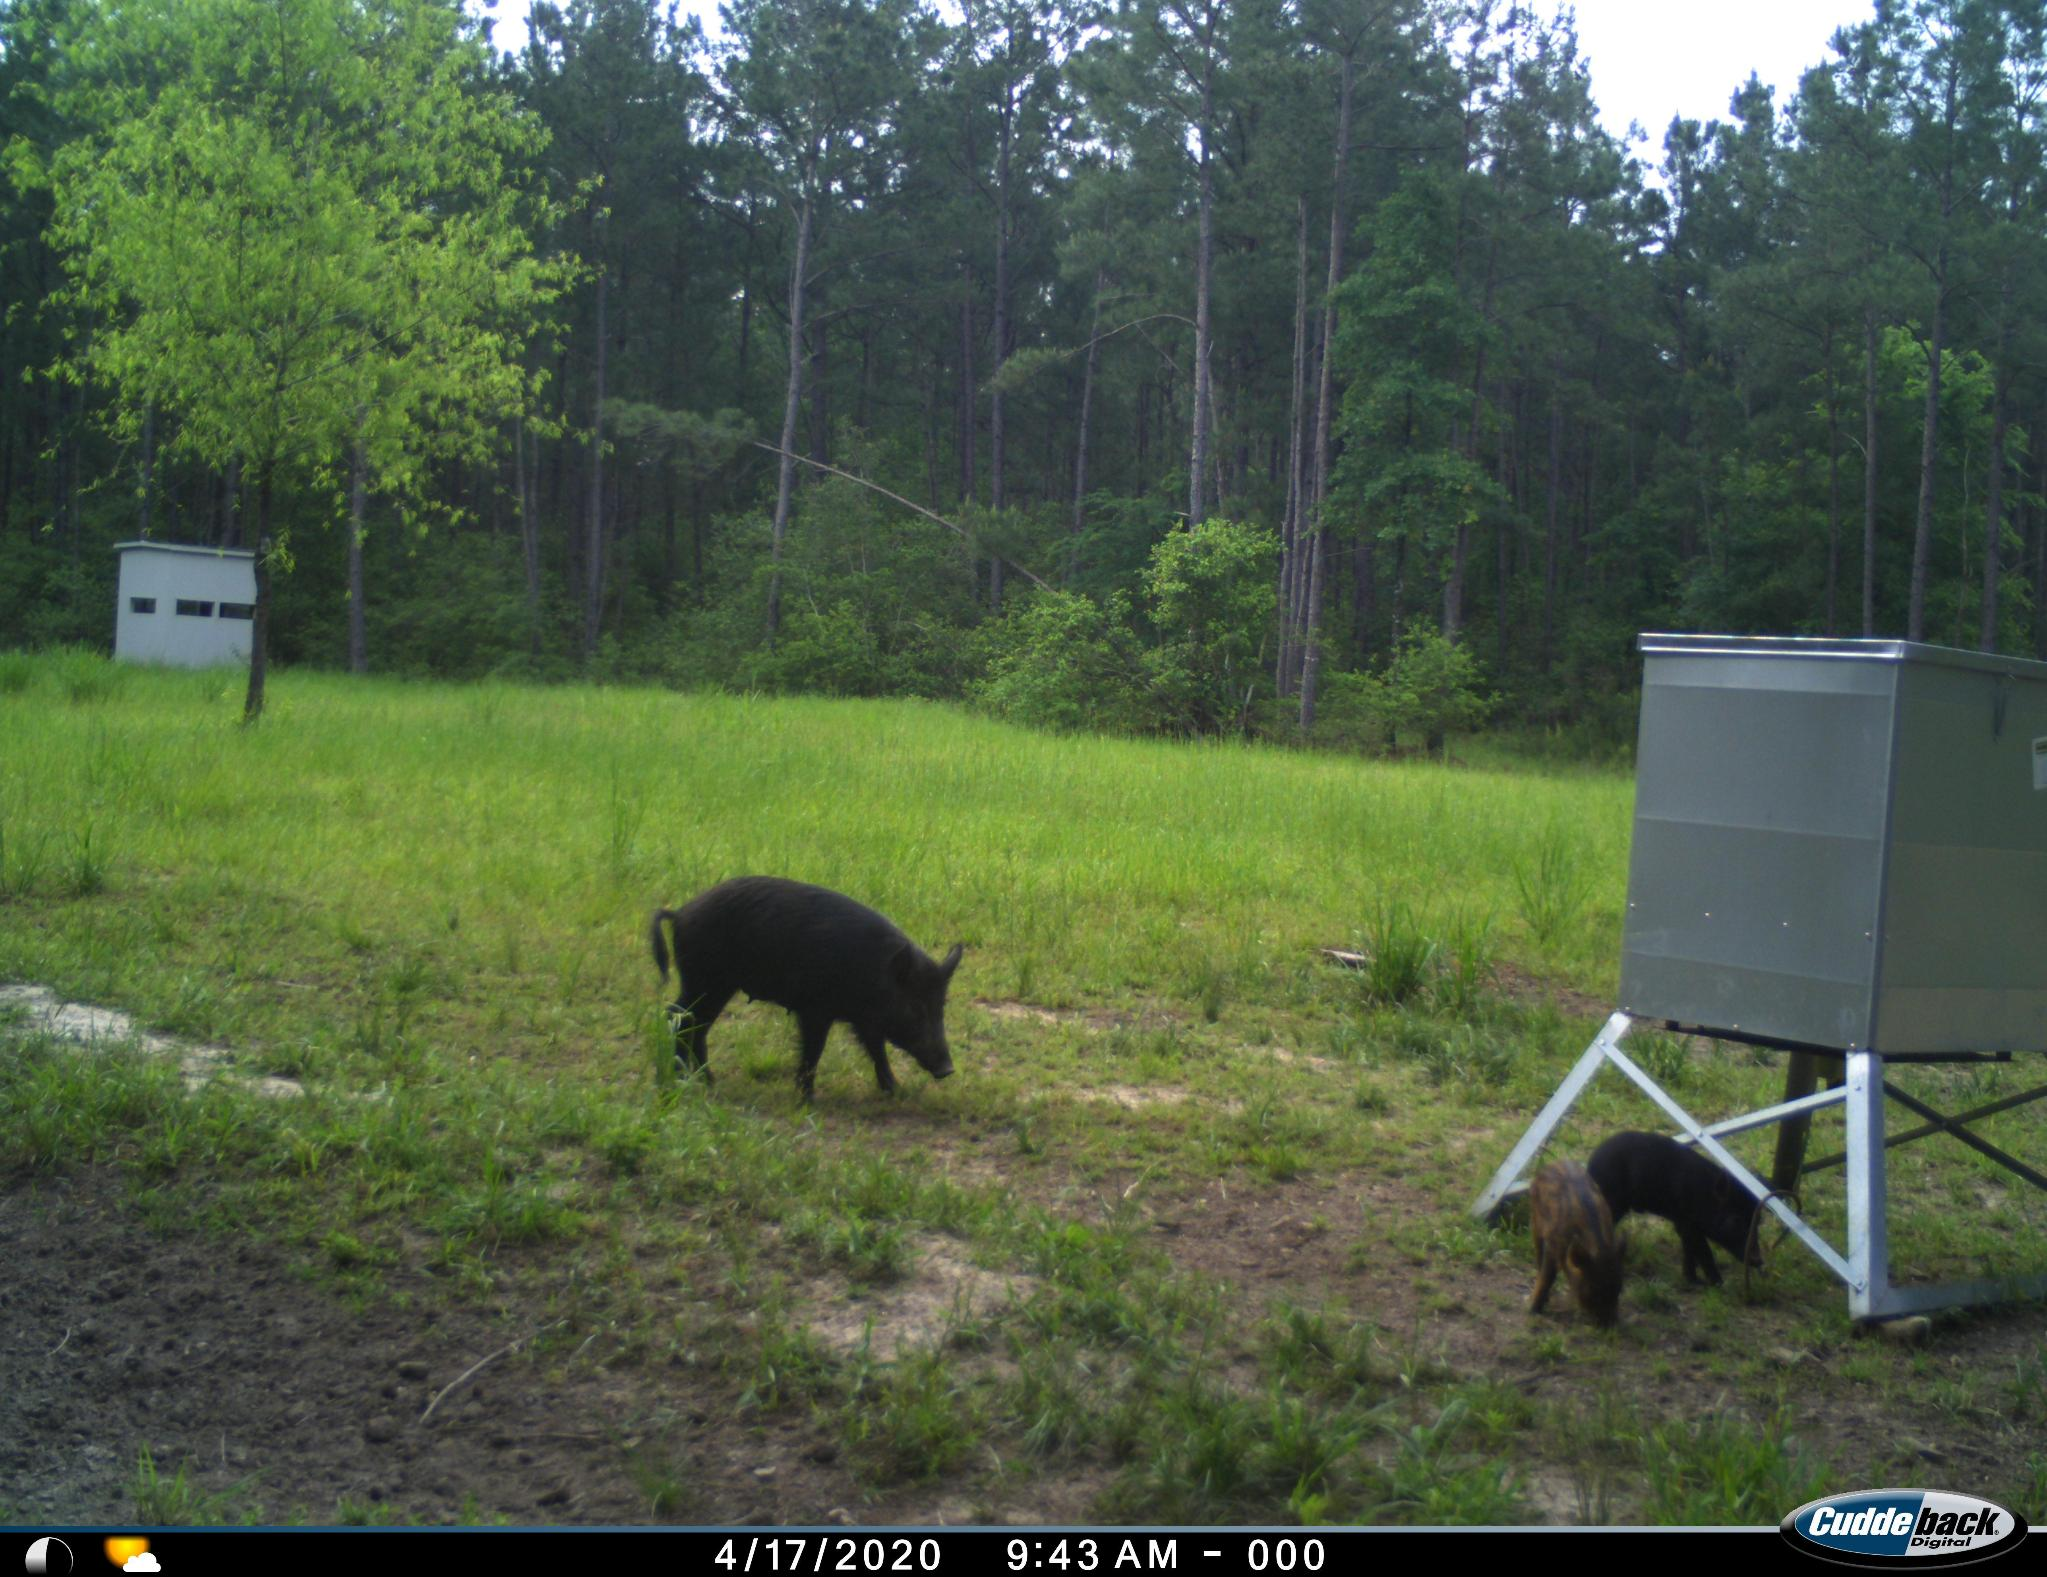Hog: (634, 866, 964, 1112), (1585, 1121, 1777, 1314), (1512, 1146, 1643, 1333)
